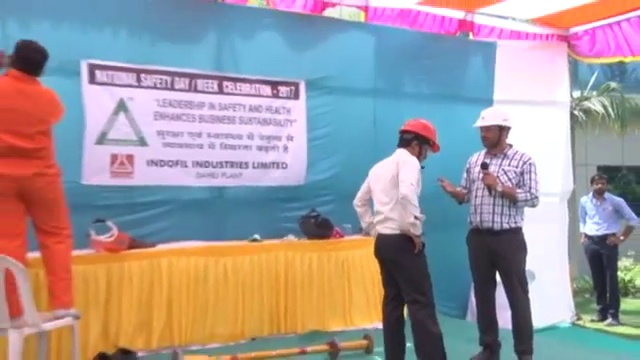helmet: (399, 116, 442, 153), (472, 104, 515, 130)
helmet_off: (7, 38, 50, 81), (587, 172, 609, 196)
helmet_on: (470, 103, 516, 155), (397, 114, 442, 164)
person: (436, 104, 542, 360), (350, 115, 446, 360), (1, 36, 79, 322), (576, 174, 640, 325)
